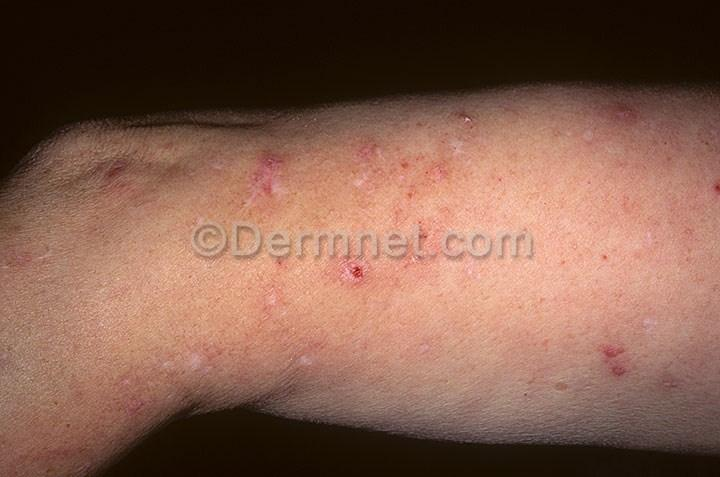Eczema: (551, 266, 694, 433), (326, 110, 489, 228), (159, 266, 306, 377), (310, 263, 446, 362), (74, 127, 182, 233), (223, 117, 313, 227), (578, 83, 674, 179), (666, 118, 720, 232), (0, 208, 68, 284)
